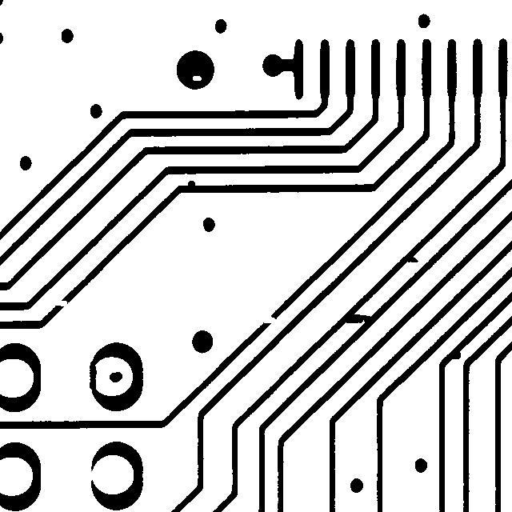copper: (102, 364, 130, 390)
open: (255, 308, 282, 330), (46, 293, 74, 314)
pin-hole: (185, 68, 209, 88)
short: (338, 306, 382, 330), (82, 354, 104, 397)
spur: (398, 249, 426, 270), (443, 344, 468, 366), (180, 173, 203, 196)
